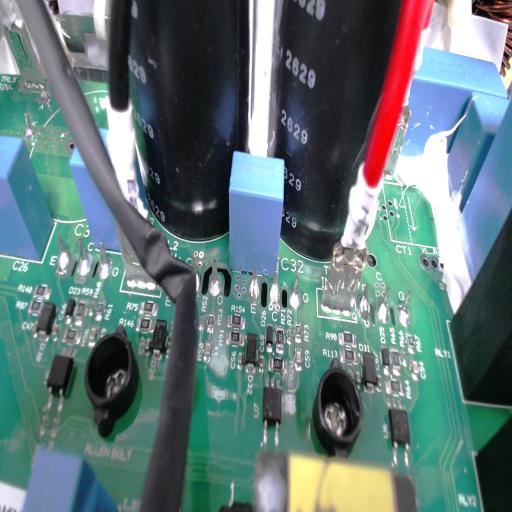pin_group: (49, 227, 116, 284), (243, 255, 303, 315), (355, 278, 415, 330), (205, 251, 228, 298)
solder_ball: (52, 231, 70, 277), (74, 237, 92, 278), (246, 261, 262, 303), (268, 266, 283, 308), (377, 285, 392, 325), (95, 242, 111, 279), (359, 284, 373, 324), (210, 258, 224, 297), (287, 271, 301, 309), (397, 292, 412, 326)
